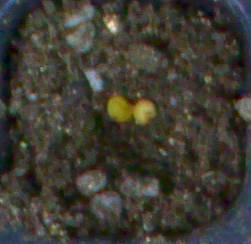chilli seed: (107, 95, 131, 122), (133, 100, 155, 125)
